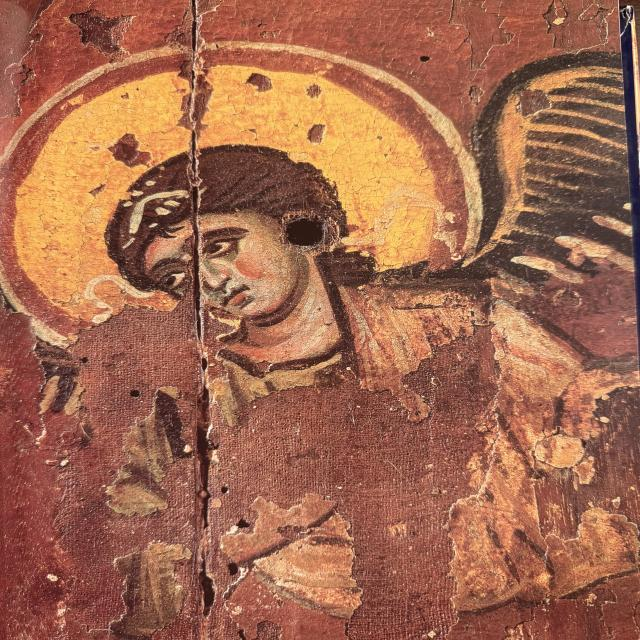angel: (1, 38, 623, 599)
aura: (3, 42, 481, 364)
wing: (471, 57, 633, 292)
